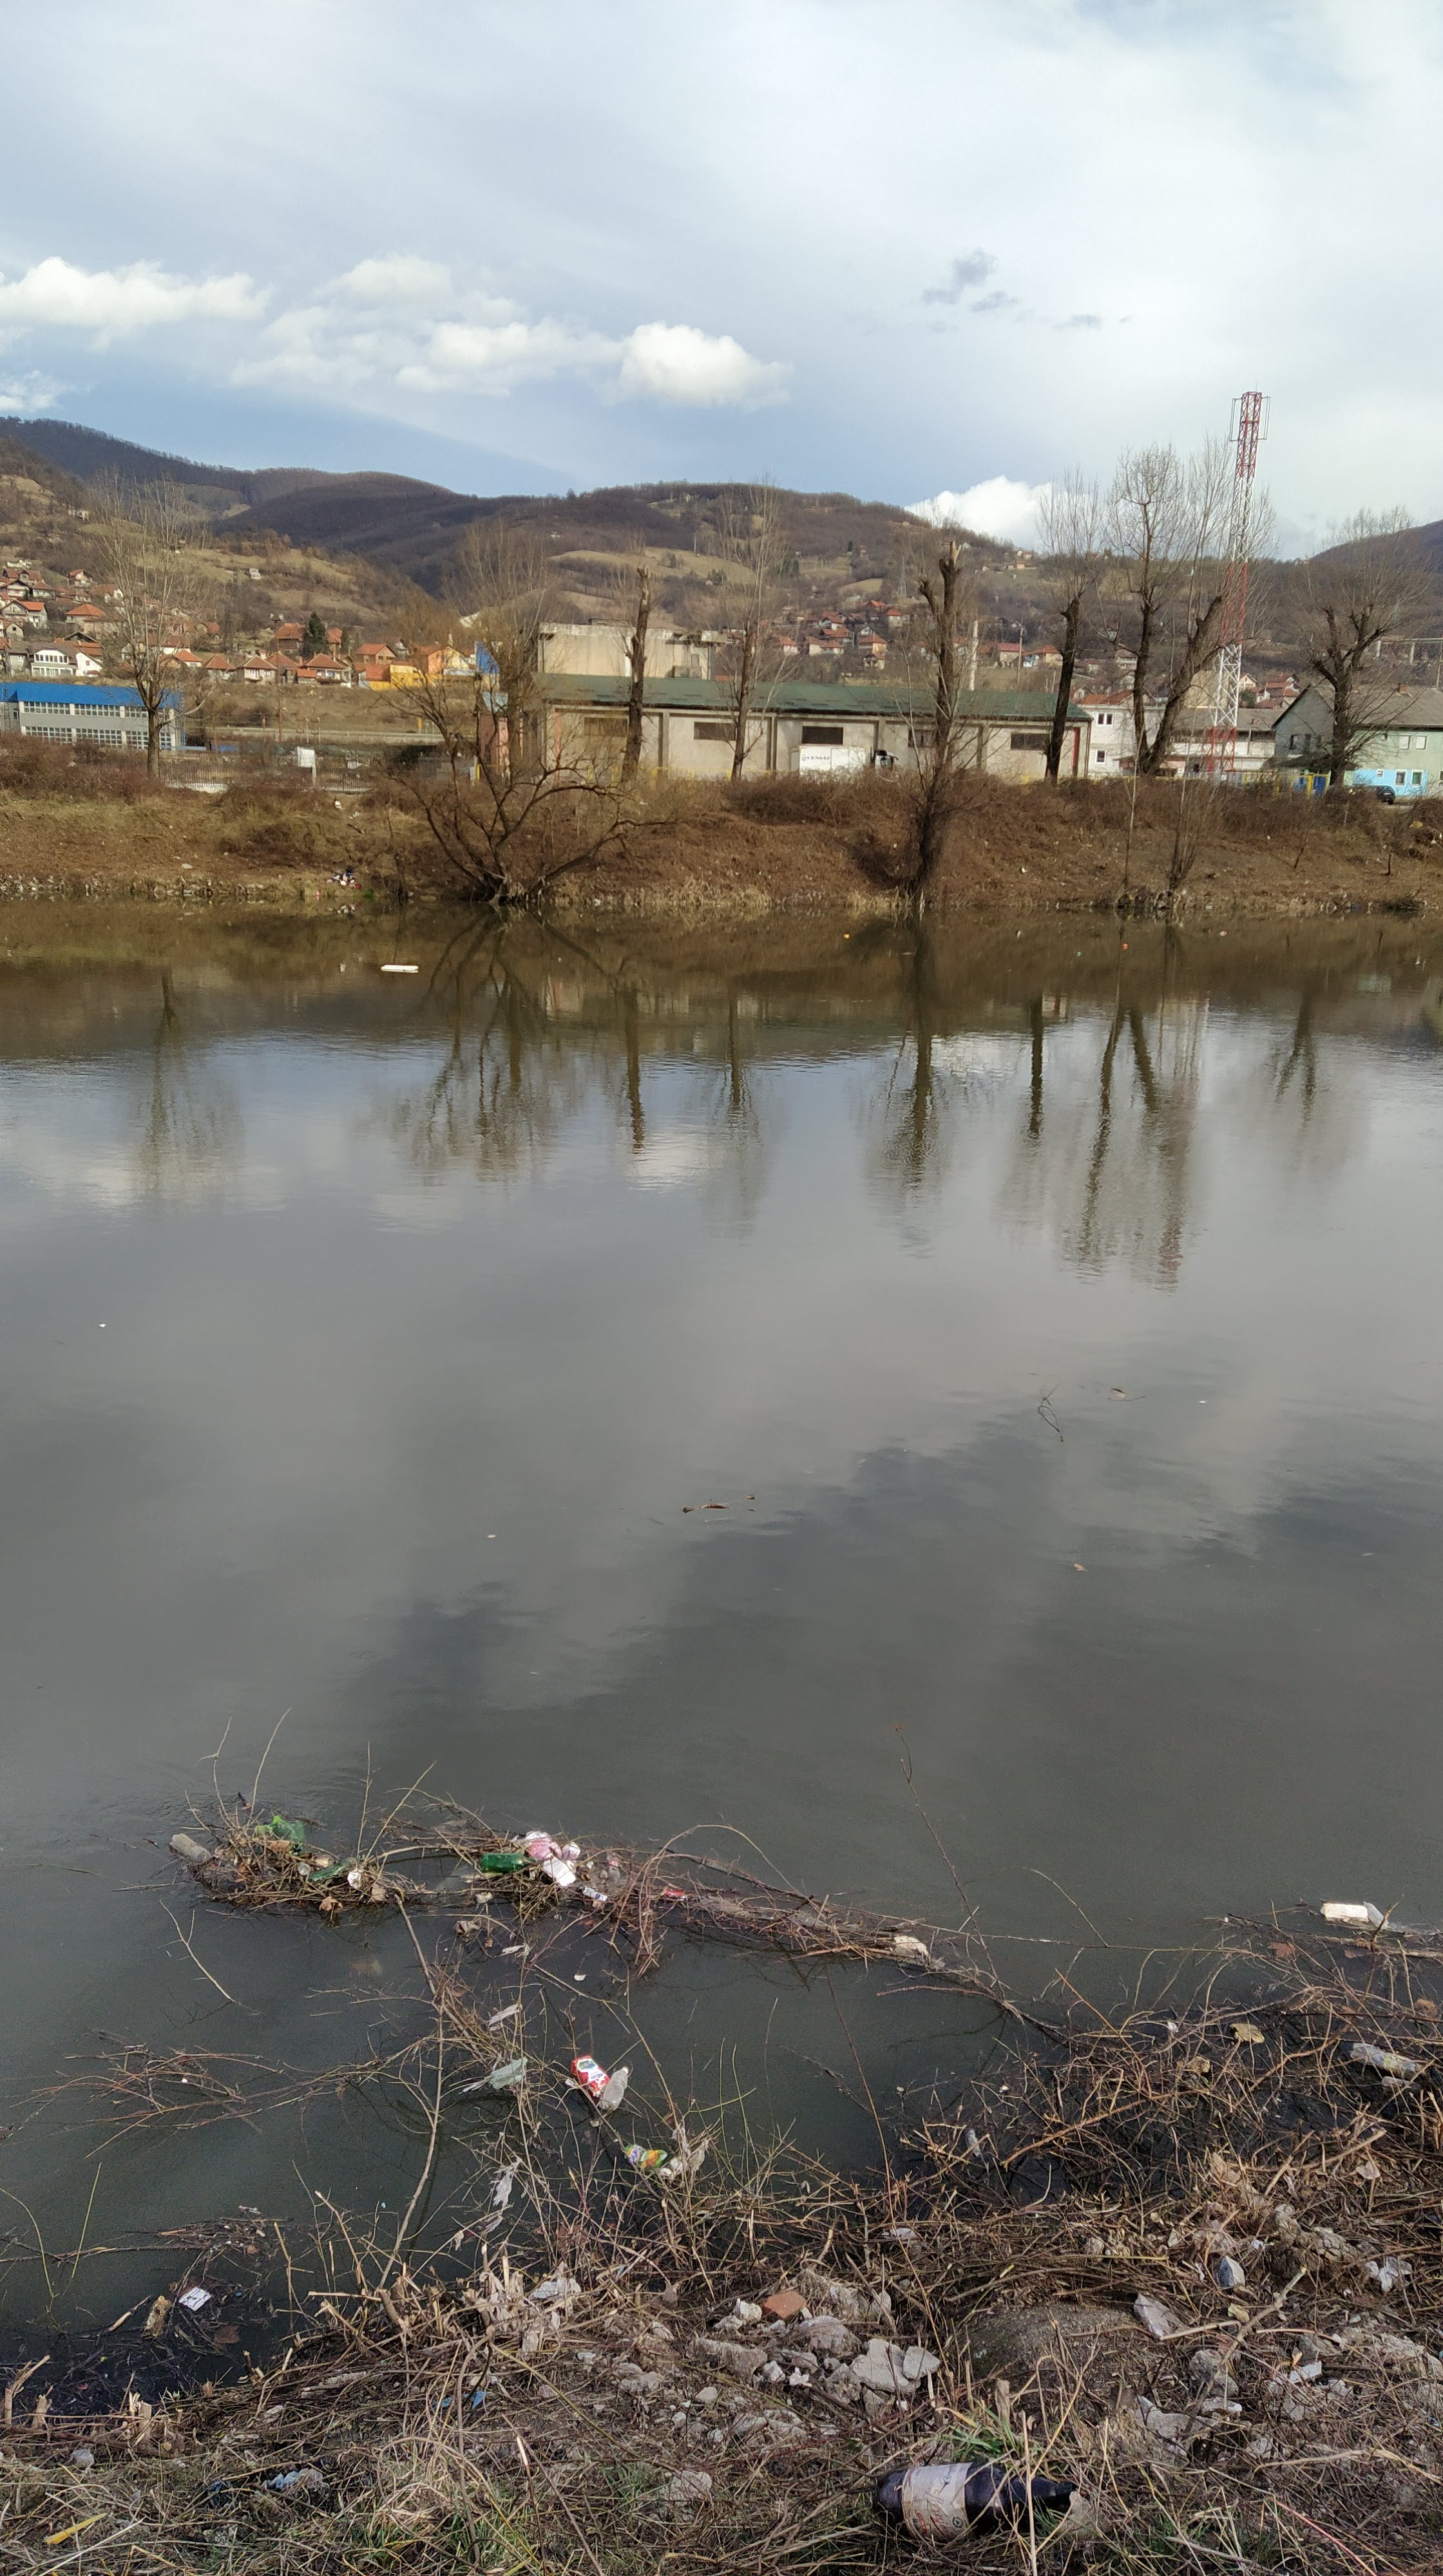Plastic Bottle: (1351, 2042, 1425, 2079), (598, 2066, 629, 2111), (310, 1858, 363, 1881), (168, 1833, 211, 1861), (623, 2144, 667, 2169), (480, 1852, 538, 1870), (1363, 1902, 1388, 1930), (963, 2127, 981, 2155), (1381, 2077, 1416, 2089), (607, 1851, 620, 1882), (296, 1861, 312, 1875)
